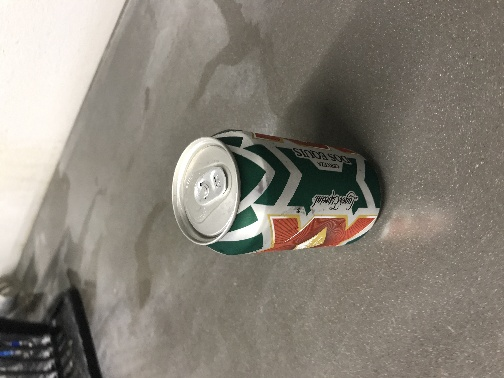DEL: (220, 133, 267, 159), (208, 105, 259, 128)
